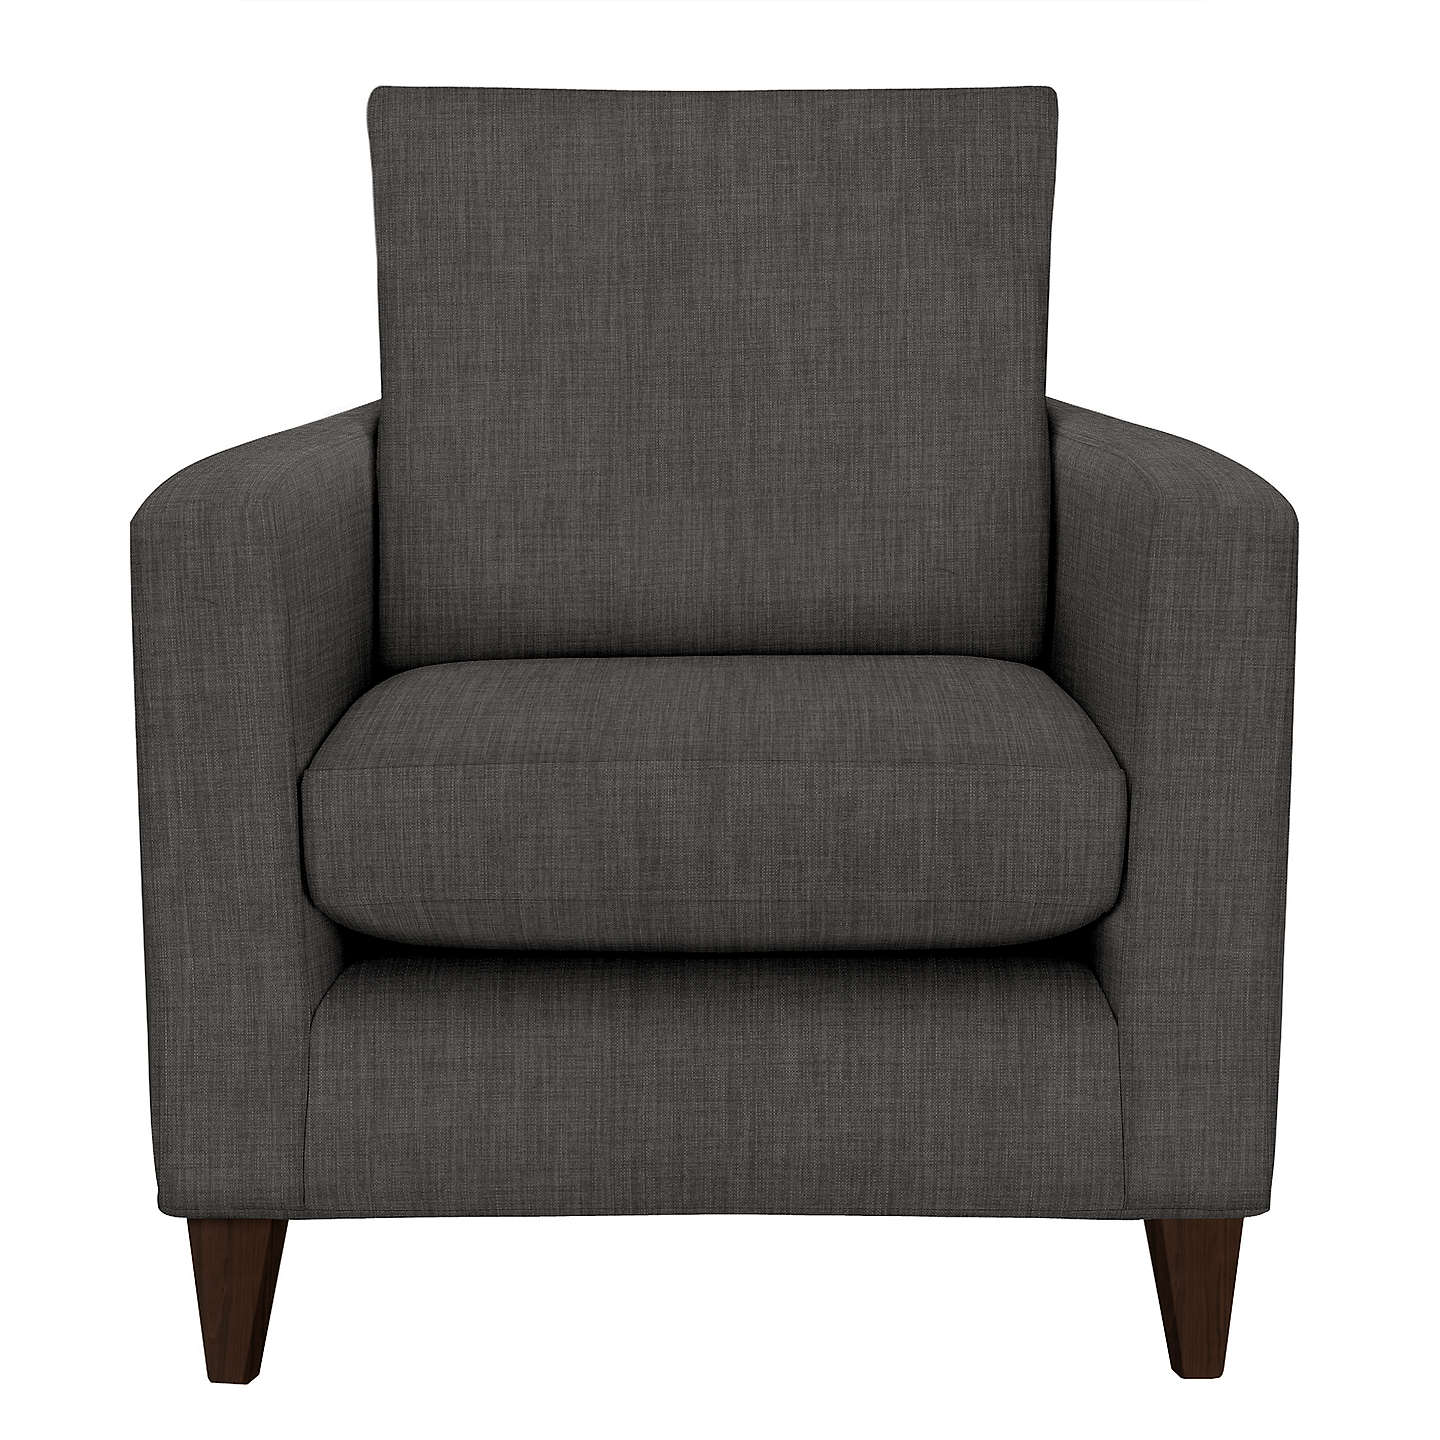chairs: (131, 76, 1298, 1382)
